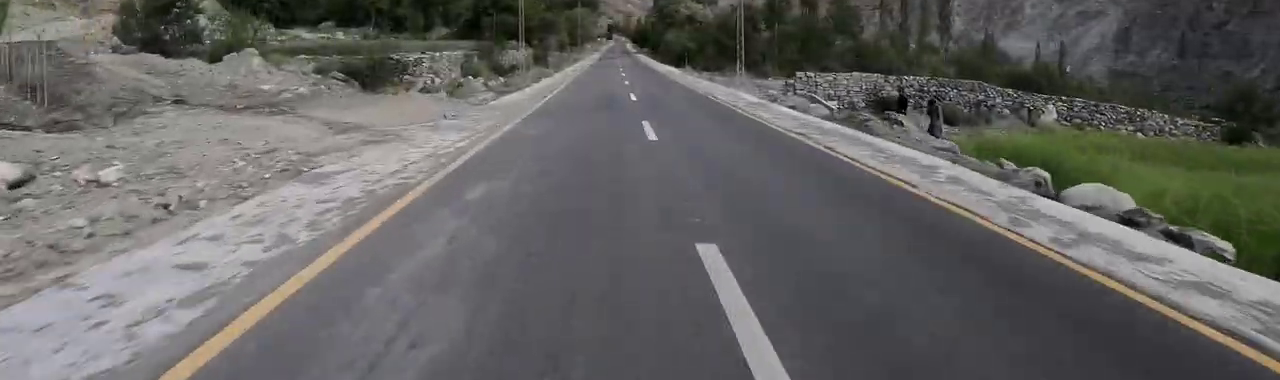left: (575, 57, 826, 337)
